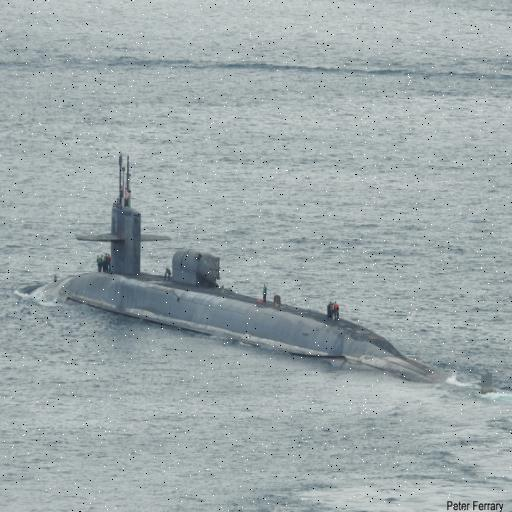submarine: (60, 148, 498, 400)
